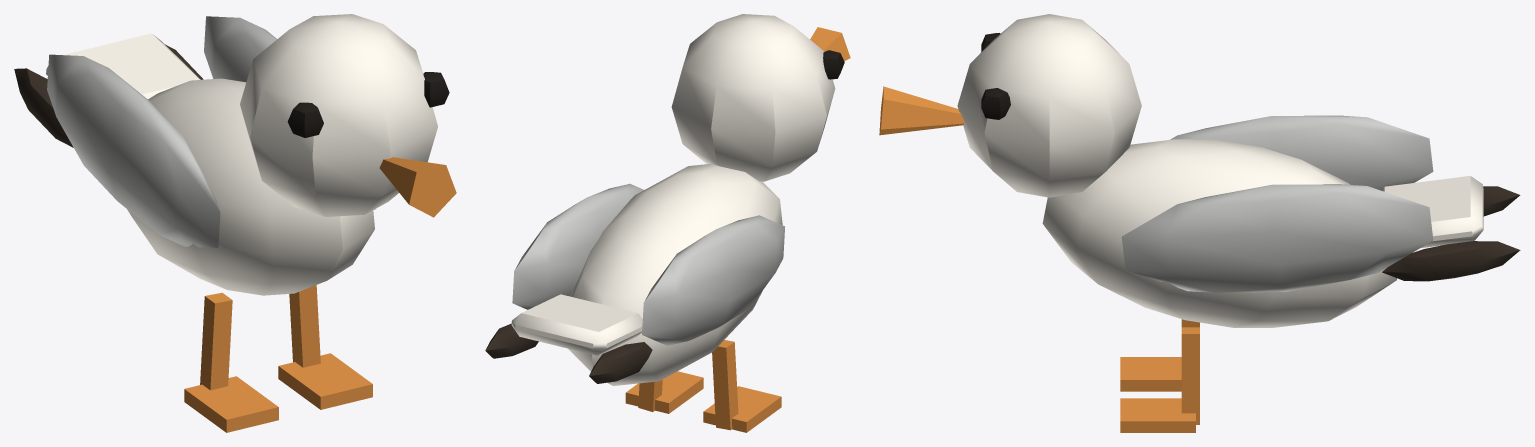
Rendered from beach_gull.glb.
3 views of the same model, side by side, from view 1: azimuth 30°, elevation 25°; view 2: azimuth 150°, elevation 25°; view 3: azimuth 270°, elevation 25° (orthographic). The views are drawn at different scales.
Parts seen in each view (by area): view 1: beach_gull; view 2: beach_gull; view 3: beach_gull.
Part boxes in pixels (box(x1,y1,x2,y2)): beach_gull: box(14, 14, 456, 432); beach_gull: box(485, 14, 850, 432); beach_gull: box(879, 14, 1520, 432).
Size of the model in its own units: 0.1928 by 0.3855 by 0.5909.
Materials: 1 (1 with a texture image).
